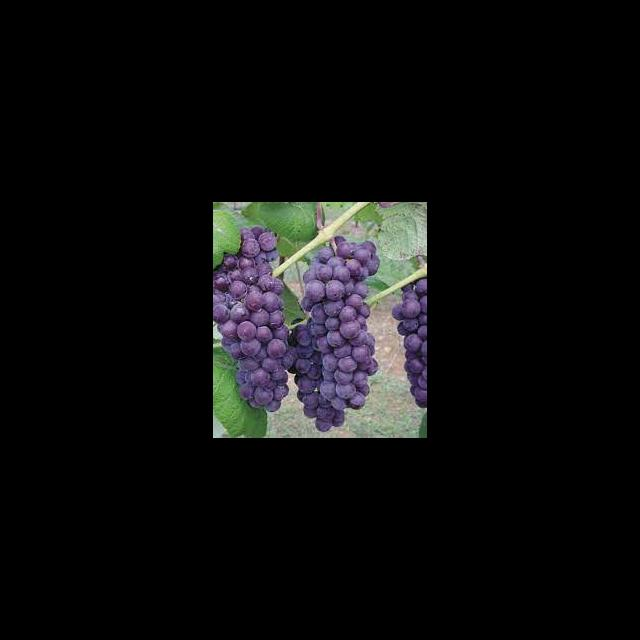grape: (287, 235, 379, 432), (213, 225, 291, 412), (391, 277, 426, 408)
